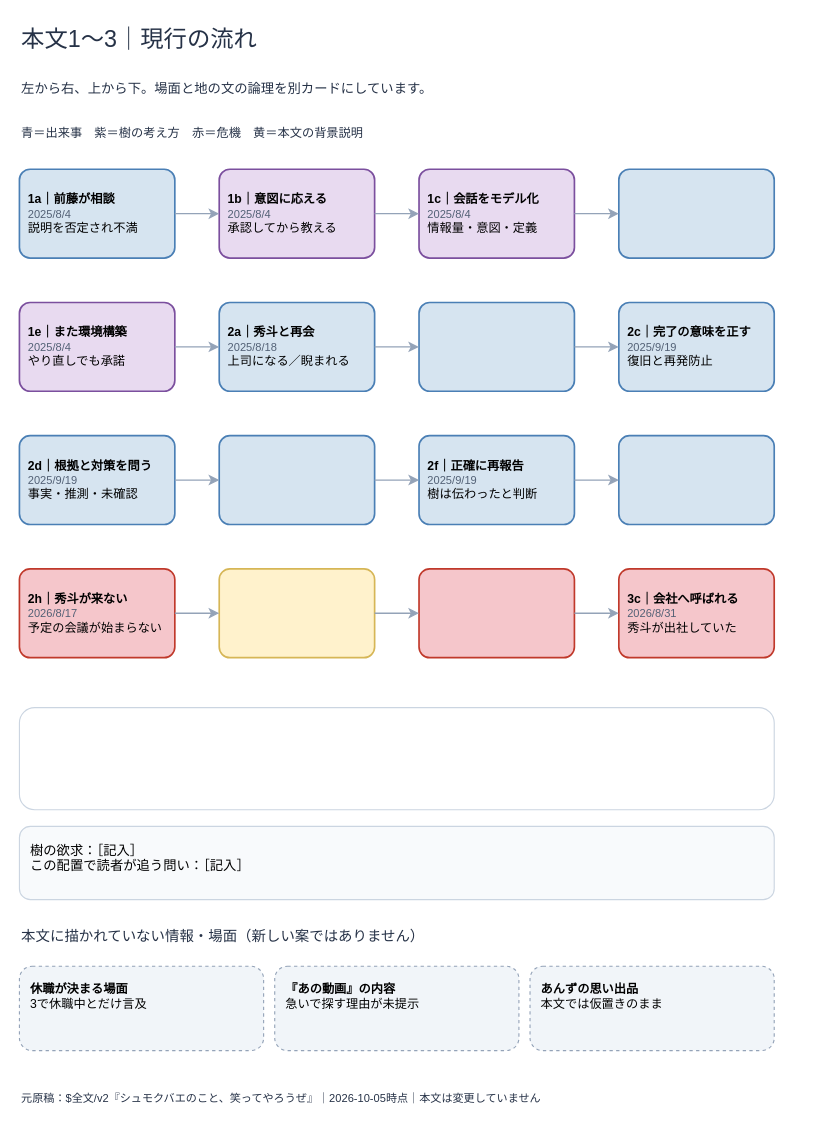
Image size: 816x1133. Some labels were removed from this diagram. Each missing label, with the centre of its shape:
"1d｜派遣を依頼される 2025/8/4 向日でPMを務める" goes at point (696, 213).
"2b｜向日に馴染む 2025/9/18 受け入れられ安心" goes at point (496, 346).
"2e｜期限と約束を問う 2025/9/19 何をいつ返すか" goes at point (296, 479).
"2g｜一年後の改善 2026/8/17 沈黙増／訂正減" goes at point (696, 479).
"3a｜危機の背景 2026/8/31時点 休職／動画／あんず" goes at point (296, 613).
"3b｜実家へ走る 2026/8/31 所在確認／実家説" goes at point (496, 613).
"配置メモ 2では樹が改善を感じる。3では休職が背景情報として出る。休職の決定と『あの動画』の内容は本文にない。" goes at point (396, 758).
